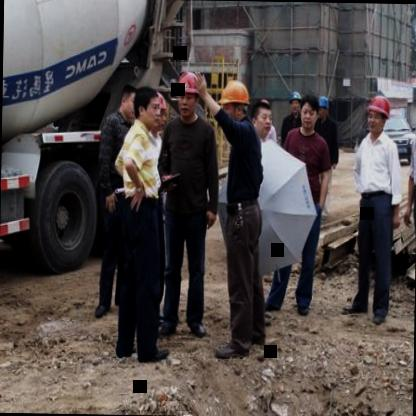head: (134, 83, 164, 133), (249, 95, 276, 136), (300, 92, 320, 131), (118, 82, 136, 122)
helmet: (171, 68, 202, 120), (221, 80, 255, 120), (362, 92, 390, 136), (288, 86, 304, 121), (317, 94, 333, 124)
